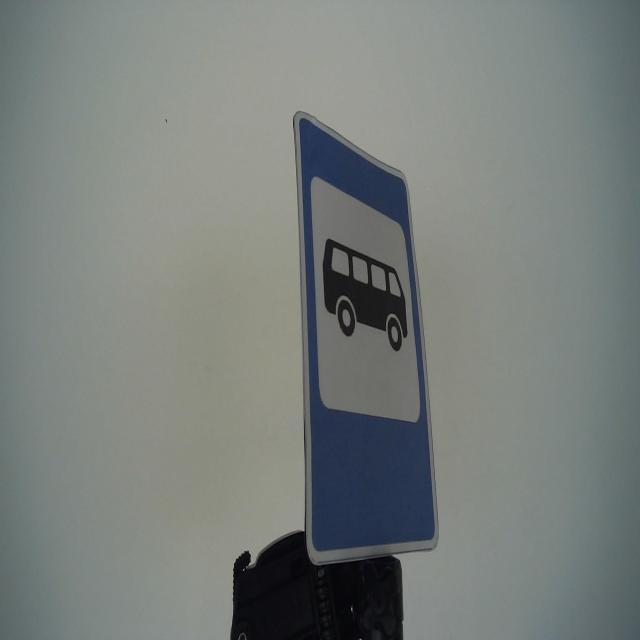bus_stop: (291, 107, 441, 565)
